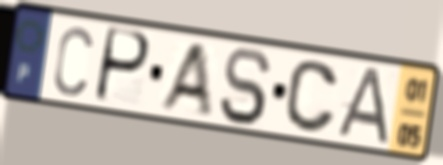A: (331, 65, 392, 148), (154, 41, 215, 116)
C: (282, 57, 341, 136), (51, 23, 96, 99)
P: (91, 24, 153, 107)
S: (216, 45, 274, 129)
